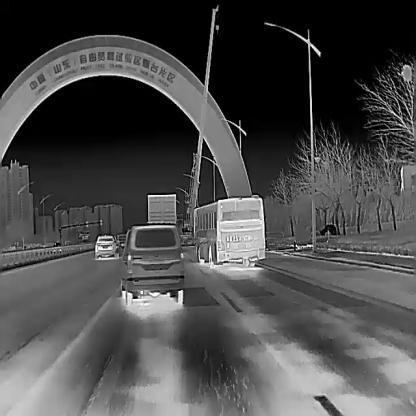car: (120, 223, 185, 304), (193, 195, 265, 268), (146, 192, 176, 226), (95, 233, 119, 259), (51, 240, 62, 252)
